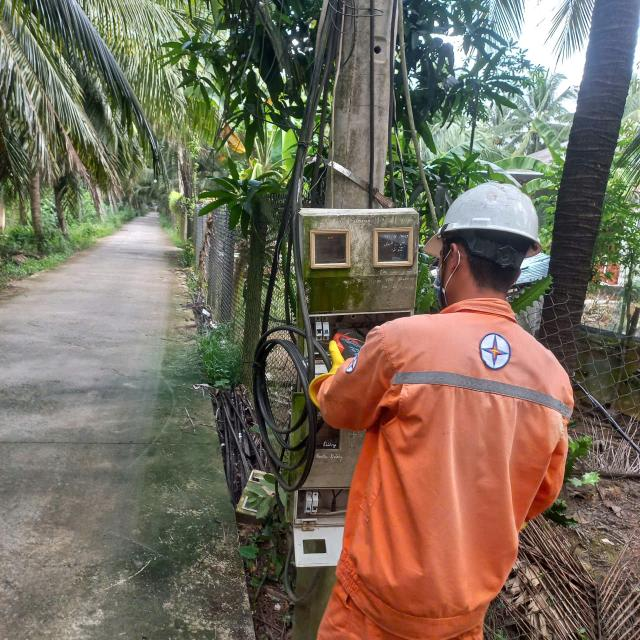gloves: (299, 339, 368, 414)
helmet: (408, 180, 560, 278)
